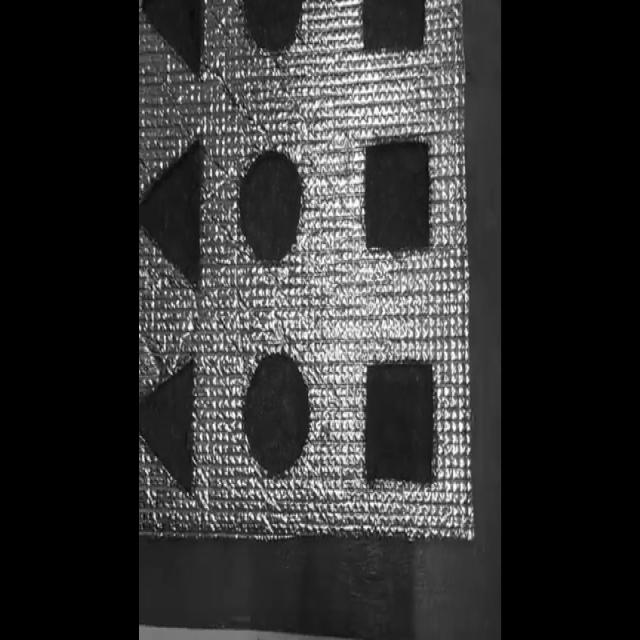mtcircle: (241, 346, 312, 478), (238, 146, 304, 264), (239, 0, 306, 54)
mtcube: (362, 356, 439, 489), (361, 135, 433, 256), (363, 0, 425, 54)
mttriangle: (142, 136, 205, 290), (140, 356, 200, 497), (143, 0, 202, 74)
wb: (134, 0, 477, 542)
